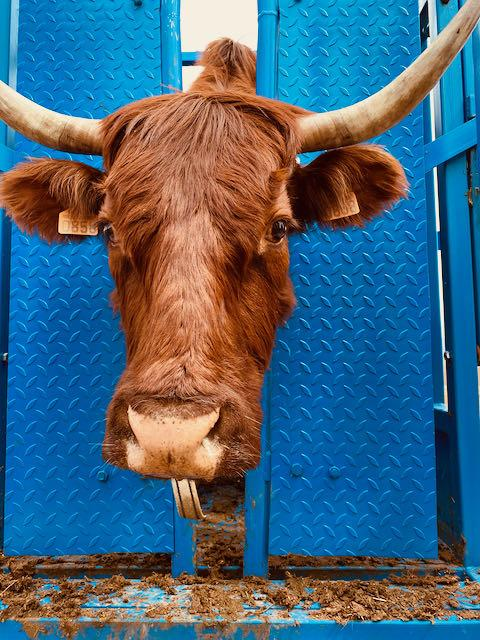muzzles: (103, 388, 253, 491)
